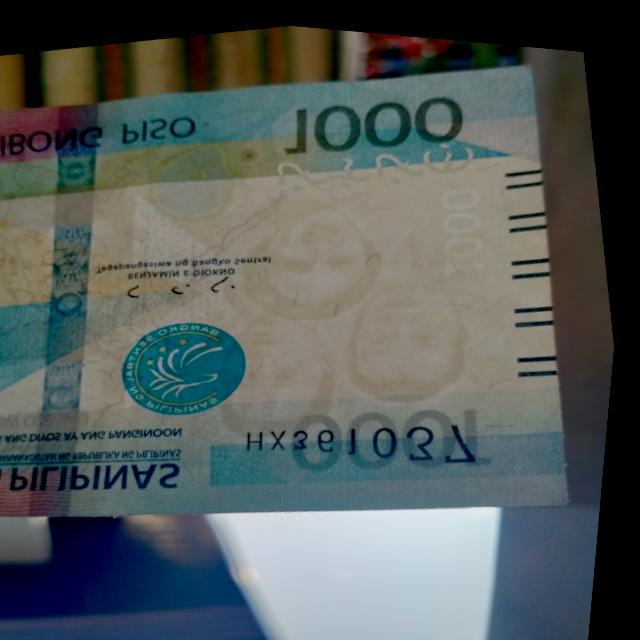security_thread: (0, 97, 182, 531)
see_through_mark: (247, 106, 494, 218)
value_watermark: (418, 167, 510, 282)
watermark: (166, 145, 516, 478)
